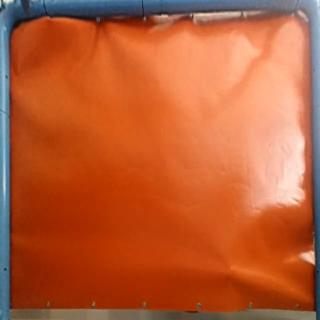Hit-hRxx: (225, 260, 238, 272)
